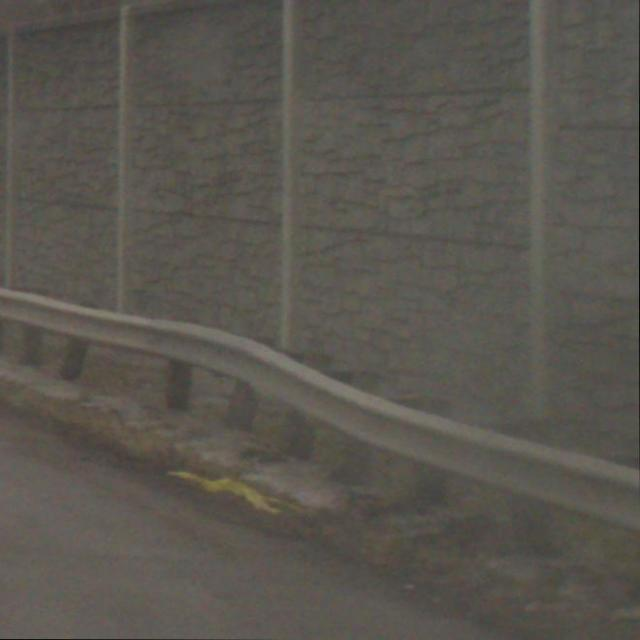Guard rail: (0, 288, 639, 572)
